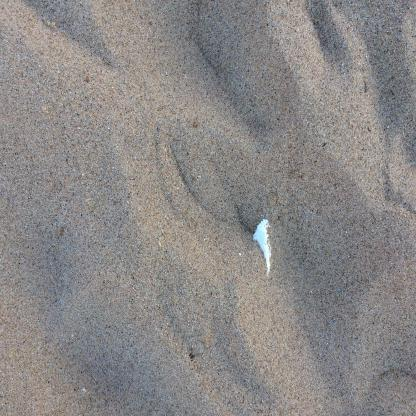Styrofoam piece: (253, 219, 272, 277)
